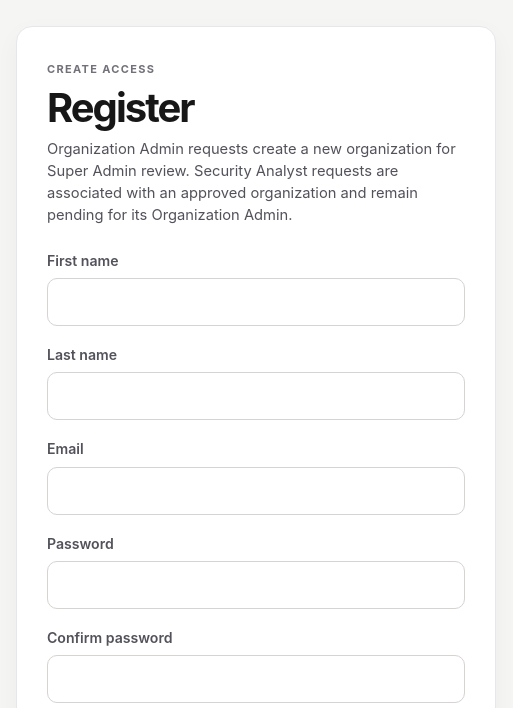
Authentication, Access Control and IAM Views › shows registration validation errors returned by the backend
Type "Taylor" into the field labelled "First name" at (256, 302), box [47,278,465,326]
Type "Analyst" into the field labelled "Last name" at (256, 396), box [47,372,465,420]
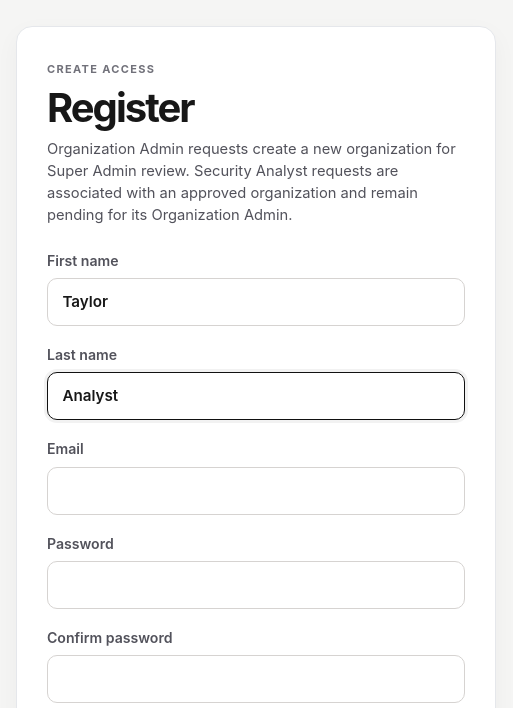
Type "analyst@example.com" into the field labelled "Email" at (256, 491), box [47,467,465,515]
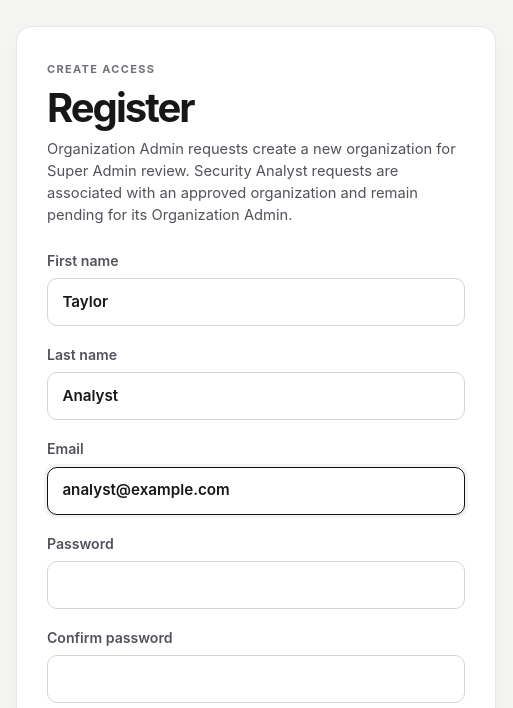
Type "LongPassword123" into the password field labelled "Password" at (256, 585), box [47,561,465,609]
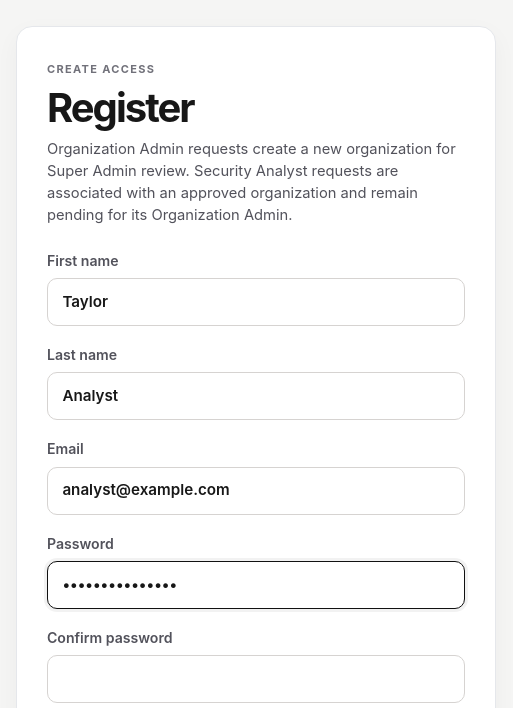
Type "LongPassword123" into the password field labelled "Confirm password" at (256, 679), box [47,655,465,703]
(page scrolled)
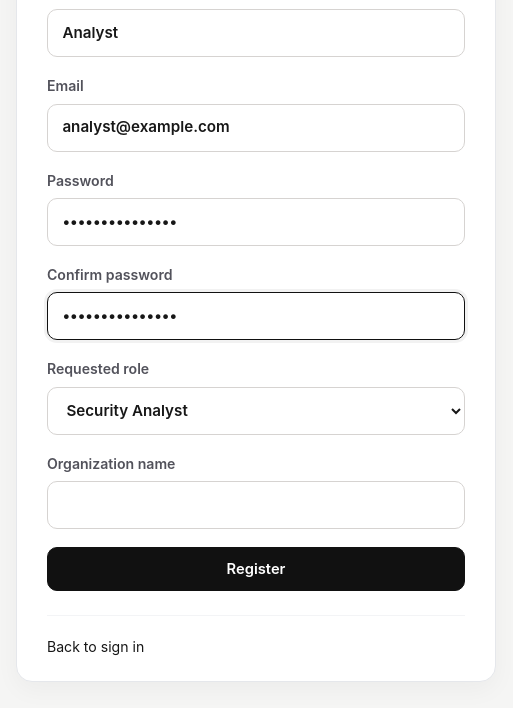
Type "Unapproved" into the field labelled "Organization name" at (256, 505), box [47,481,465,529]
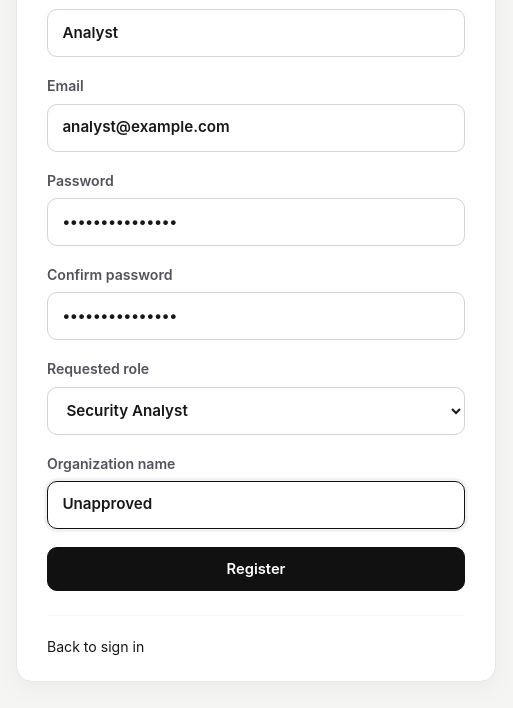
Click the button "Register" at (256, 569), box [47,547,465,591]
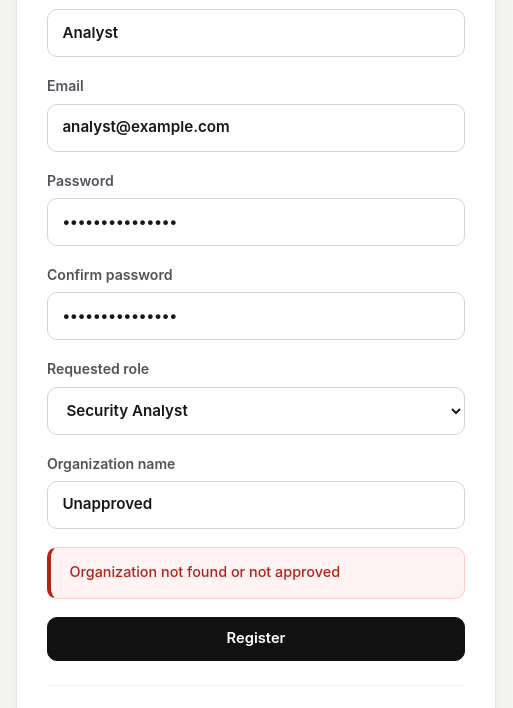
Check: the text "Organization not found or not approved" is shown, box [47,547,465,599]
